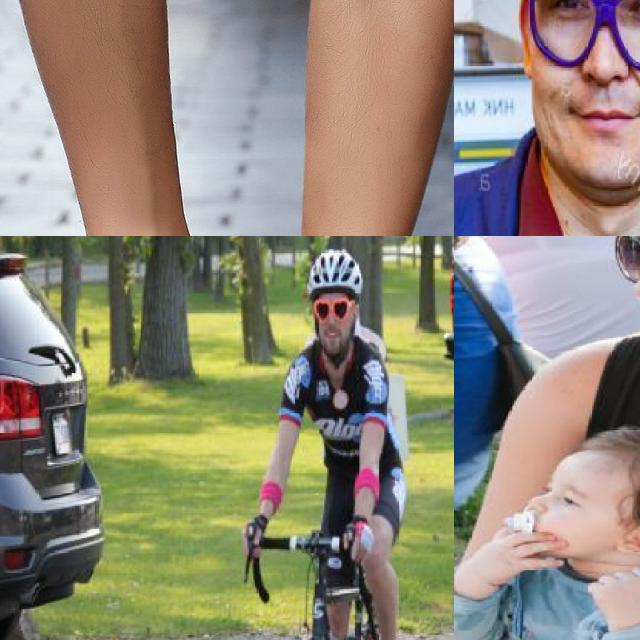face_nomask: (537, 0, 640, 139), (312, 294, 352, 345)
glasses: (523, 0, 640, 71), (314, 298, 357, 326)
hand_noglove: (482, 511, 574, 584), (575, 563, 640, 619), (336, 516, 377, 562), (237, 516, 270, 559)
head_helmet: (302, 242, 368, 299)
head_nohelmet: (549, 423, 640, 482)
person: (457, 236, 640, 640), (256, 236, 416, 640), (454, 0, 640, 236)
